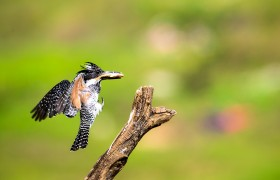bird: (26, 61, 124, 153)
